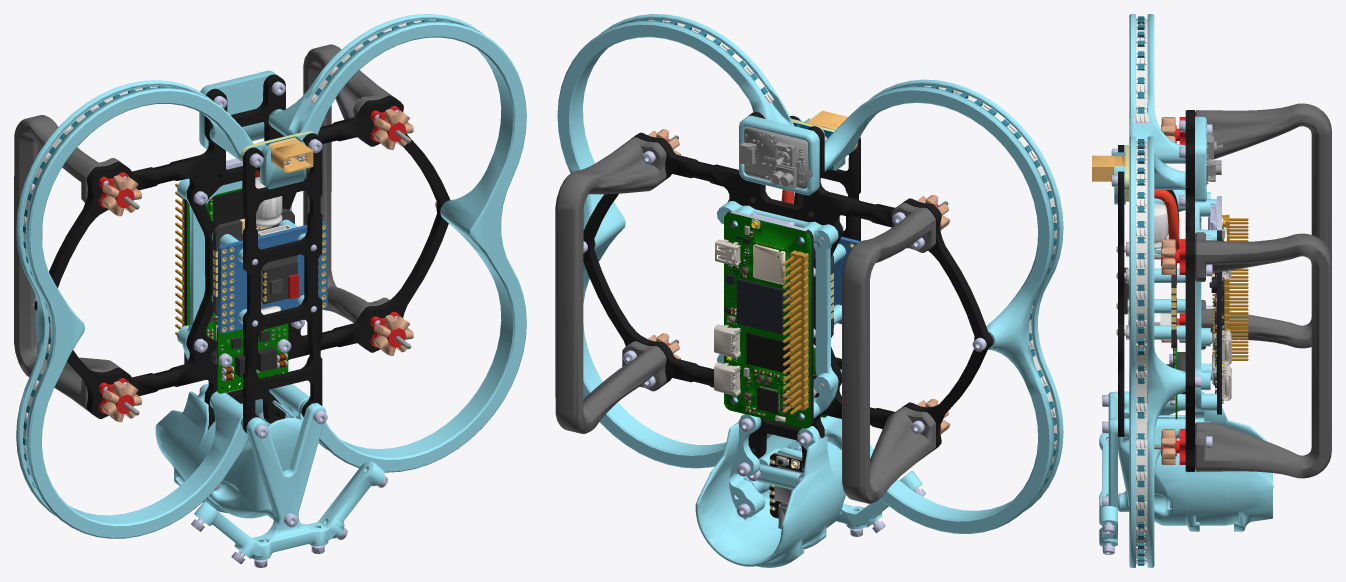
The model's file is obrik_three_rangefinders_45_clean.obj.
3 renders of one model, left to right at view 1: azimuth 30°, elevation 25°; view 2: azimuth 150°, elevation 25°; view 3: azimuth 270°, elevation 25°, orthographic. The views are drawn at different scales.
Visible parts, largest first — view 1: obrik_three_rangefinders_45_clean; view 2: obrik_three_rangefinders_45_clean; view 3: obrik_three_rangefinders_45_clean.
Part boxes in pixels (x1=…): obrik_three_rangefinders_45_clean: x1=14, y1=14, x2=526, y2=567; obrik_three_rangefinders_45_clean: x1=555, y1=14, x2=1063, y2=567; obrik_three_rangefinders_45_clean: x1=1092, y1=14, x2=1331, y2=567.
Bounding box in the file's own units: 0.1699 × 0.1597 × 0.0767.
